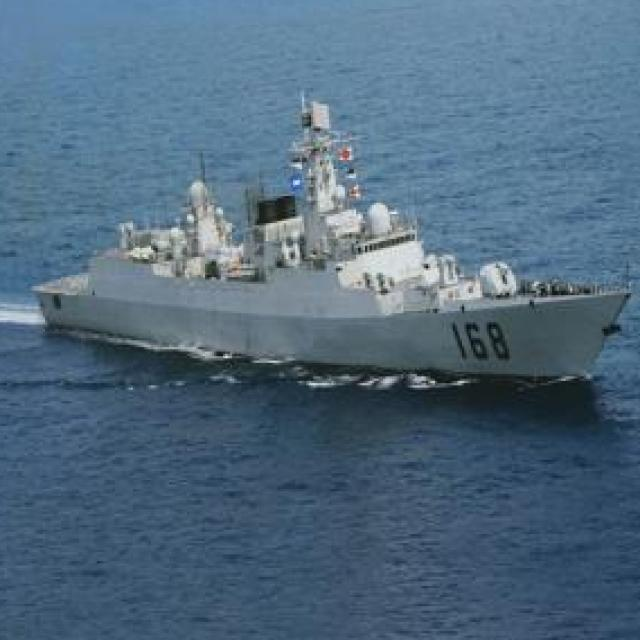navalvessels: (33, 100, 629, 377)
